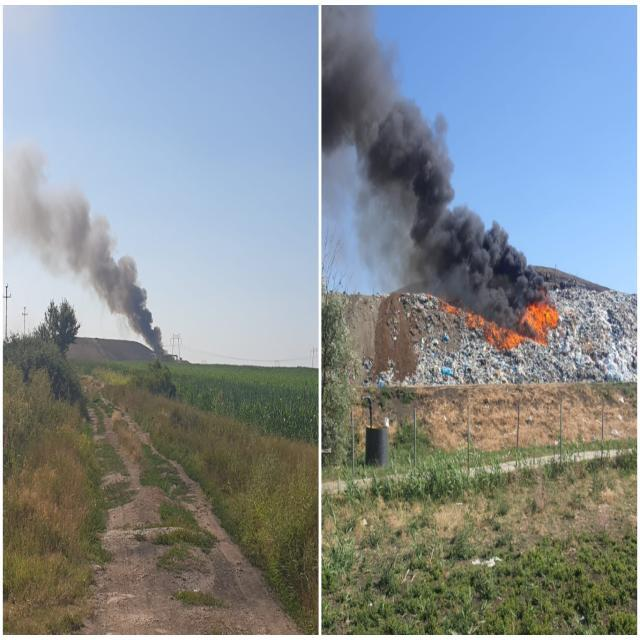Fire: (524, 296, 564, 336)
Smoke: (322, 9, 528, 326), (6, 146, 162, 369)
